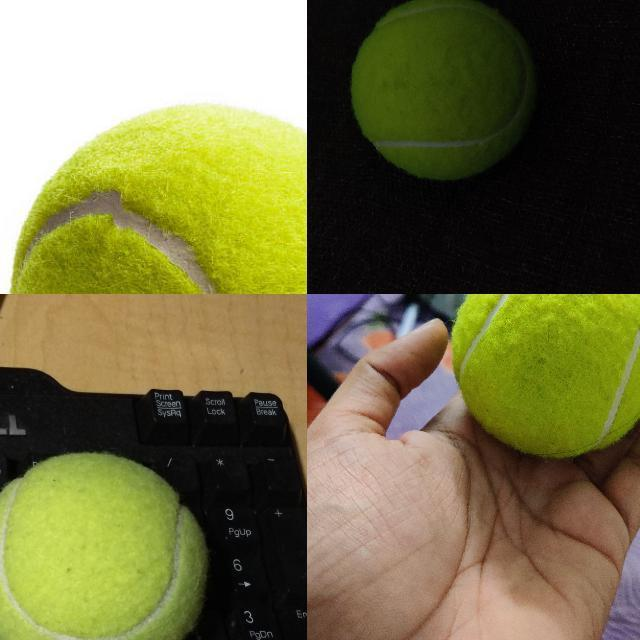tennis-ball: (8, 102, 306, 293), (0, 452, 211, 639), (348, 0, 538, 181), (448, 294, 639, 460)
